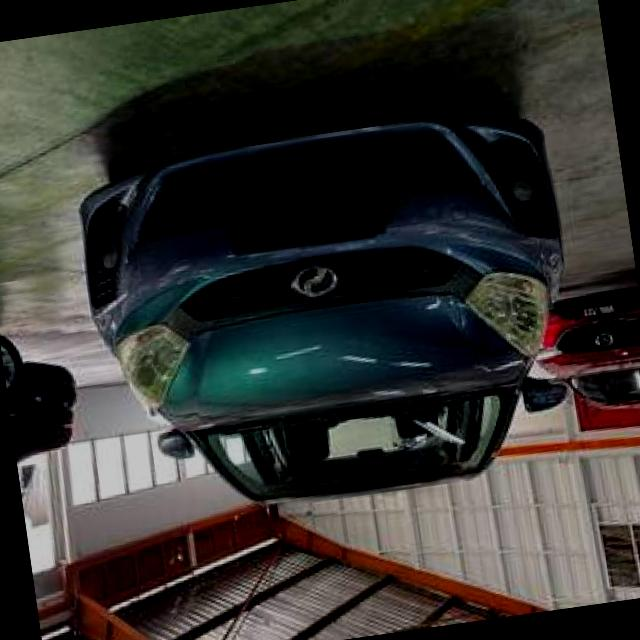PeroduaMyvi: (70, 98, 597, 534)
